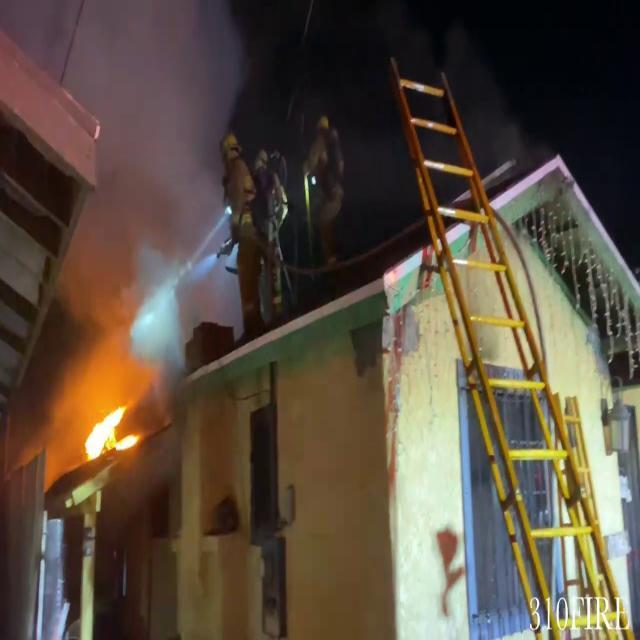Fire: (82, 404, 153, 467)
Smoke: (32, 0, 234, 386)
